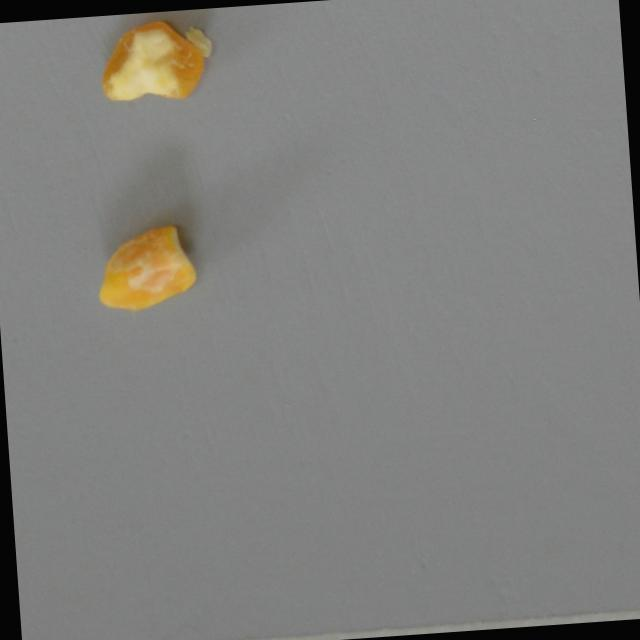pelicula: (95, 15, 207, 105), (92, 219, 199, 311)
